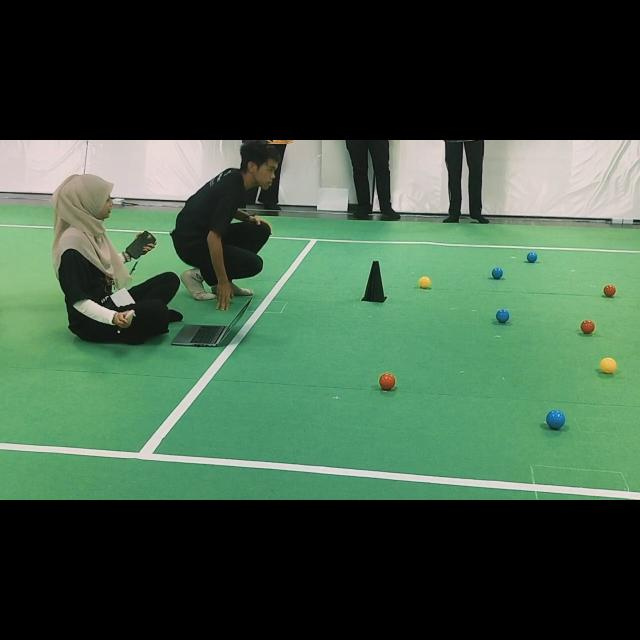ball: (546, 410, 566, 429), (379, 372, 396, 390), (600, 358, 618, 374), (580, 320, 595, 334), (496, 309, 510, 322), (419, 276, 431, 289), (491, 268, 504, 279), (526, 252, 538, 262)
